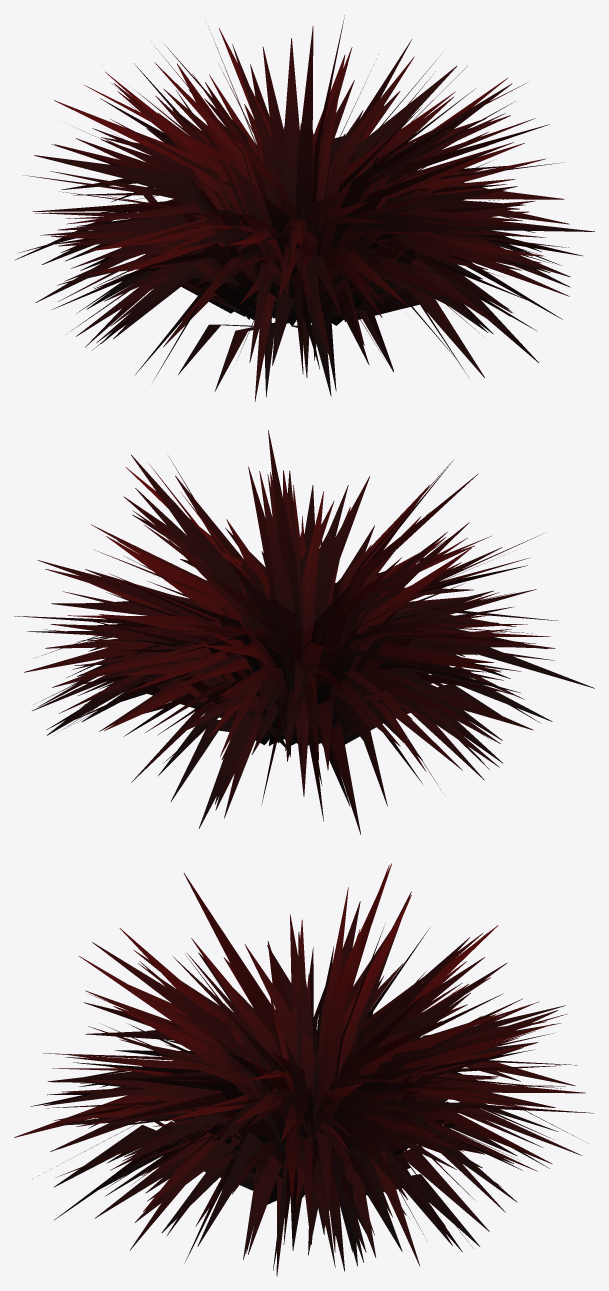
File: alpine_tussock_v03_LOD1.glb
3 views of the same model, one above another, from view 1: azimuth 30°, elevation 25°; view 2: azimuth 150°, elevation 25°; view 3: azimuth 270°, elevation 25° (orthographic). The views are drawn at different scales.
Visible parts, largest first — view 1: alpine_tussock_v03_LOD1; view 2: alpine_tussock_v03_LOD1; view 3: alpine_tussock_v03_LOD1.
Boxes of the visible parts, <box> form: alpine_tussock_v03_LOD1: <box>14,15,594,401</box>; alpine_tussock_v03_LOD1: <box>14,430,594,834</box>; alpine_tussock_v03_LOD1: <box>14,863,593,1276</box>.
Size of the model in its own units: 0.4123 by 0.1946 by 0.4185.
1 material, 1 textured.
